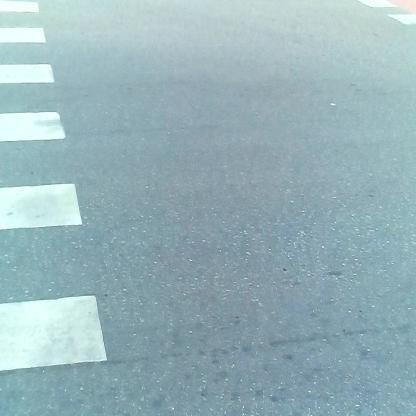crosswalk: (1, 7, 100, 406)
